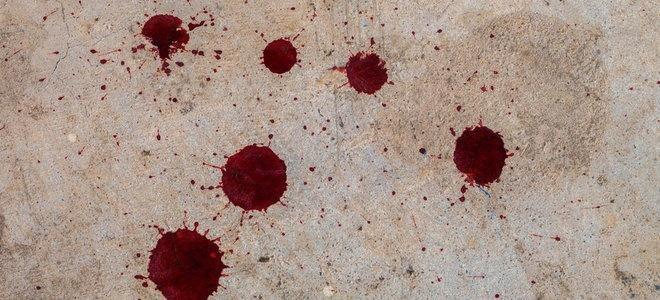Bloodstain-Detection: (149, 228, 221, 300), (221, 143, 288, 210), (453, 131, 506, 185), (348, 52, 386, 95), (263, 37, 294, 74)
